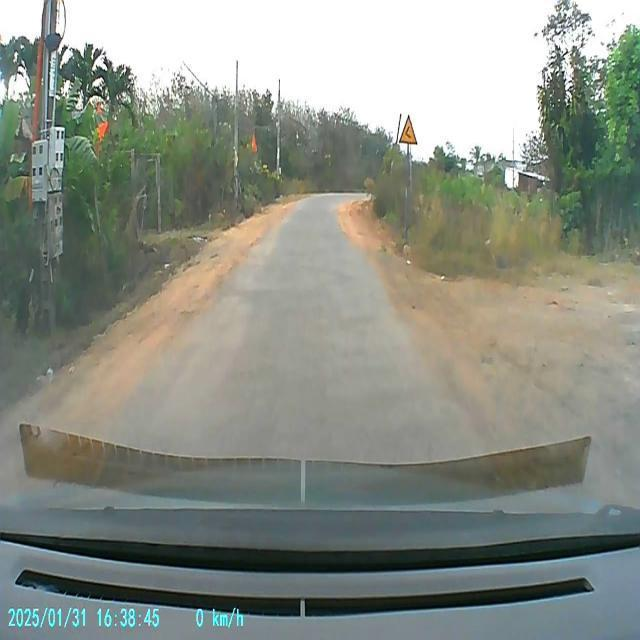201-cho-ngoat-nguy-hiem: (398, 114, 418, 146)
